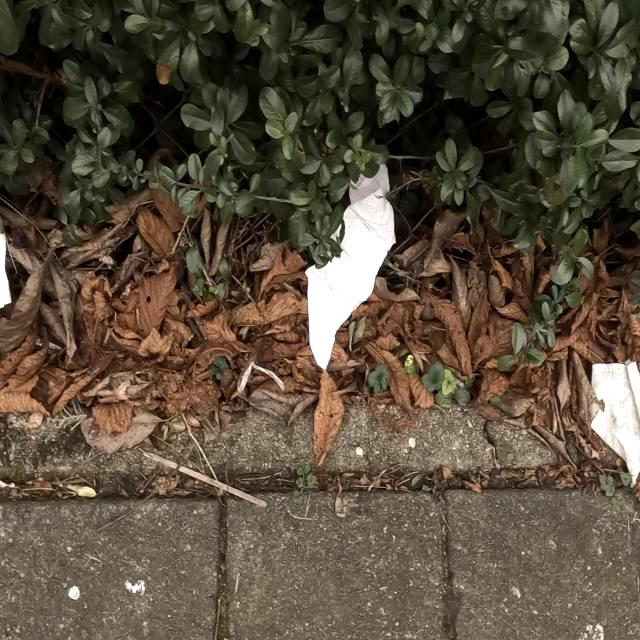Paper: (303, 160, 397, 374), (588, 360, 640, 490)
